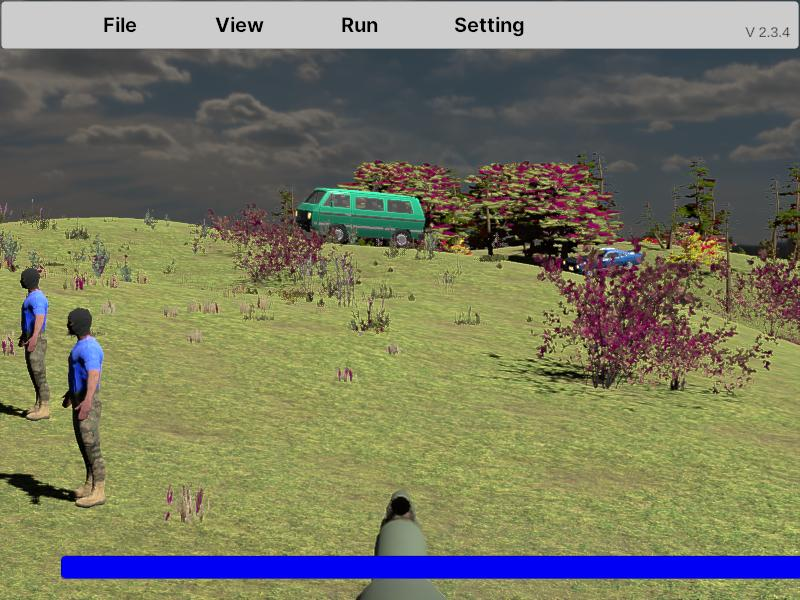Human: (63, 306, 104, 507), (20, 267, 50, 422)
car: (296, 187, 425, 250), (564, 244, 644, 280)
